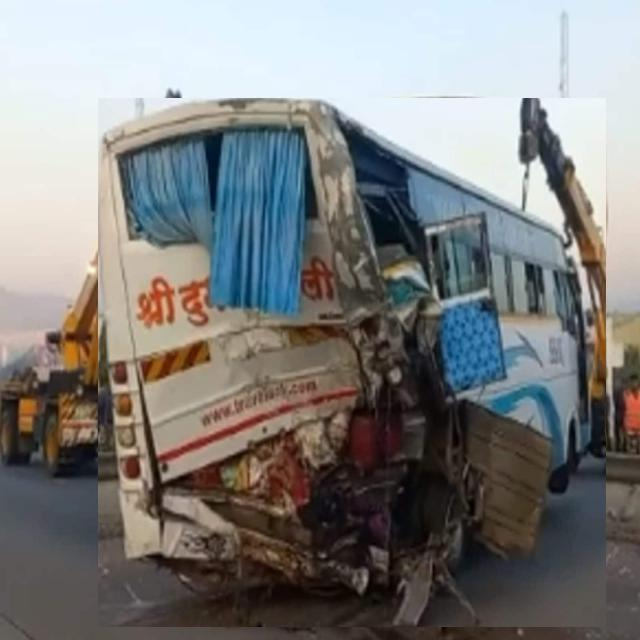accident: (98, 98, 606, 627)
